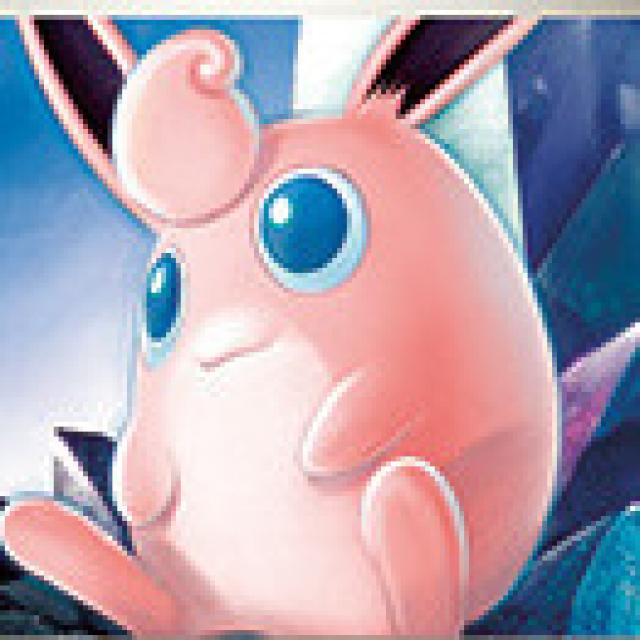Wigglytuff: (95, 23, 559, 640)
